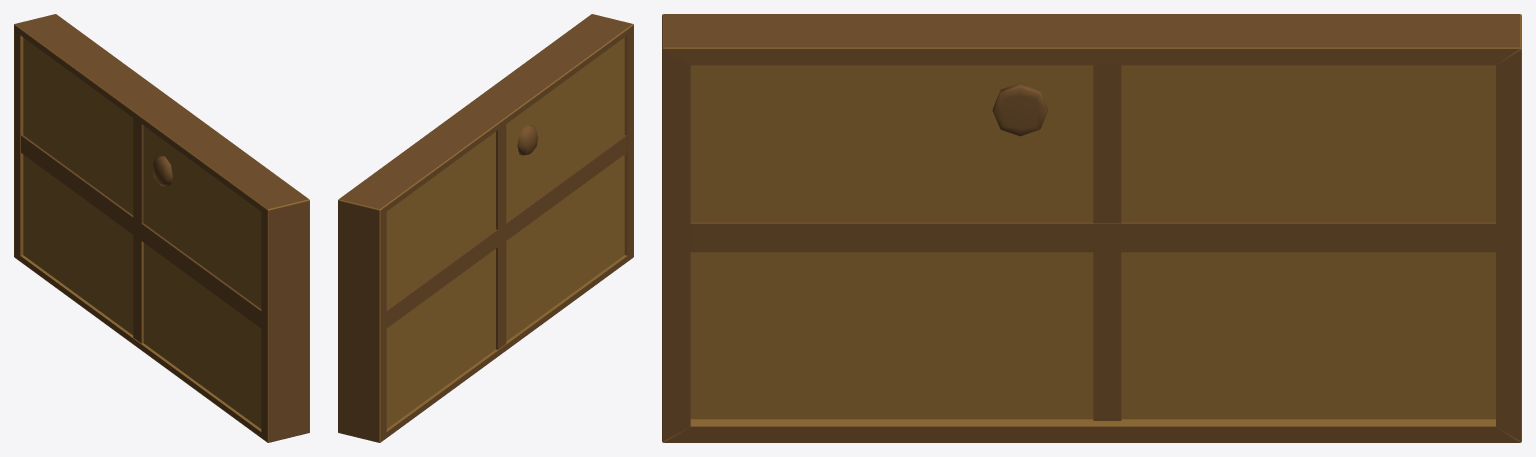
Rendered from VisitorDoor.fbx.
The picture shows the model from 3 angles, left to right: view 1: azimuth 30°, elevation 25°; view 2: azimuth 150°, elevation 25°; view 3: azimuth 270°, elevation 25°; orthographic projection. The views are drawn at different scales.
Parts seen in each view (by area): view 1: Door; view 2: Door; view 3: Door.
Boxes of the visible parts, <box> form: Door: <box>14,14,309,442</box>; Door: <box>338,14,633,442</box>; Door: <box>662,14,1521,442</box>.
Size of the model in its own units: 52.01 by 240 by 473.
